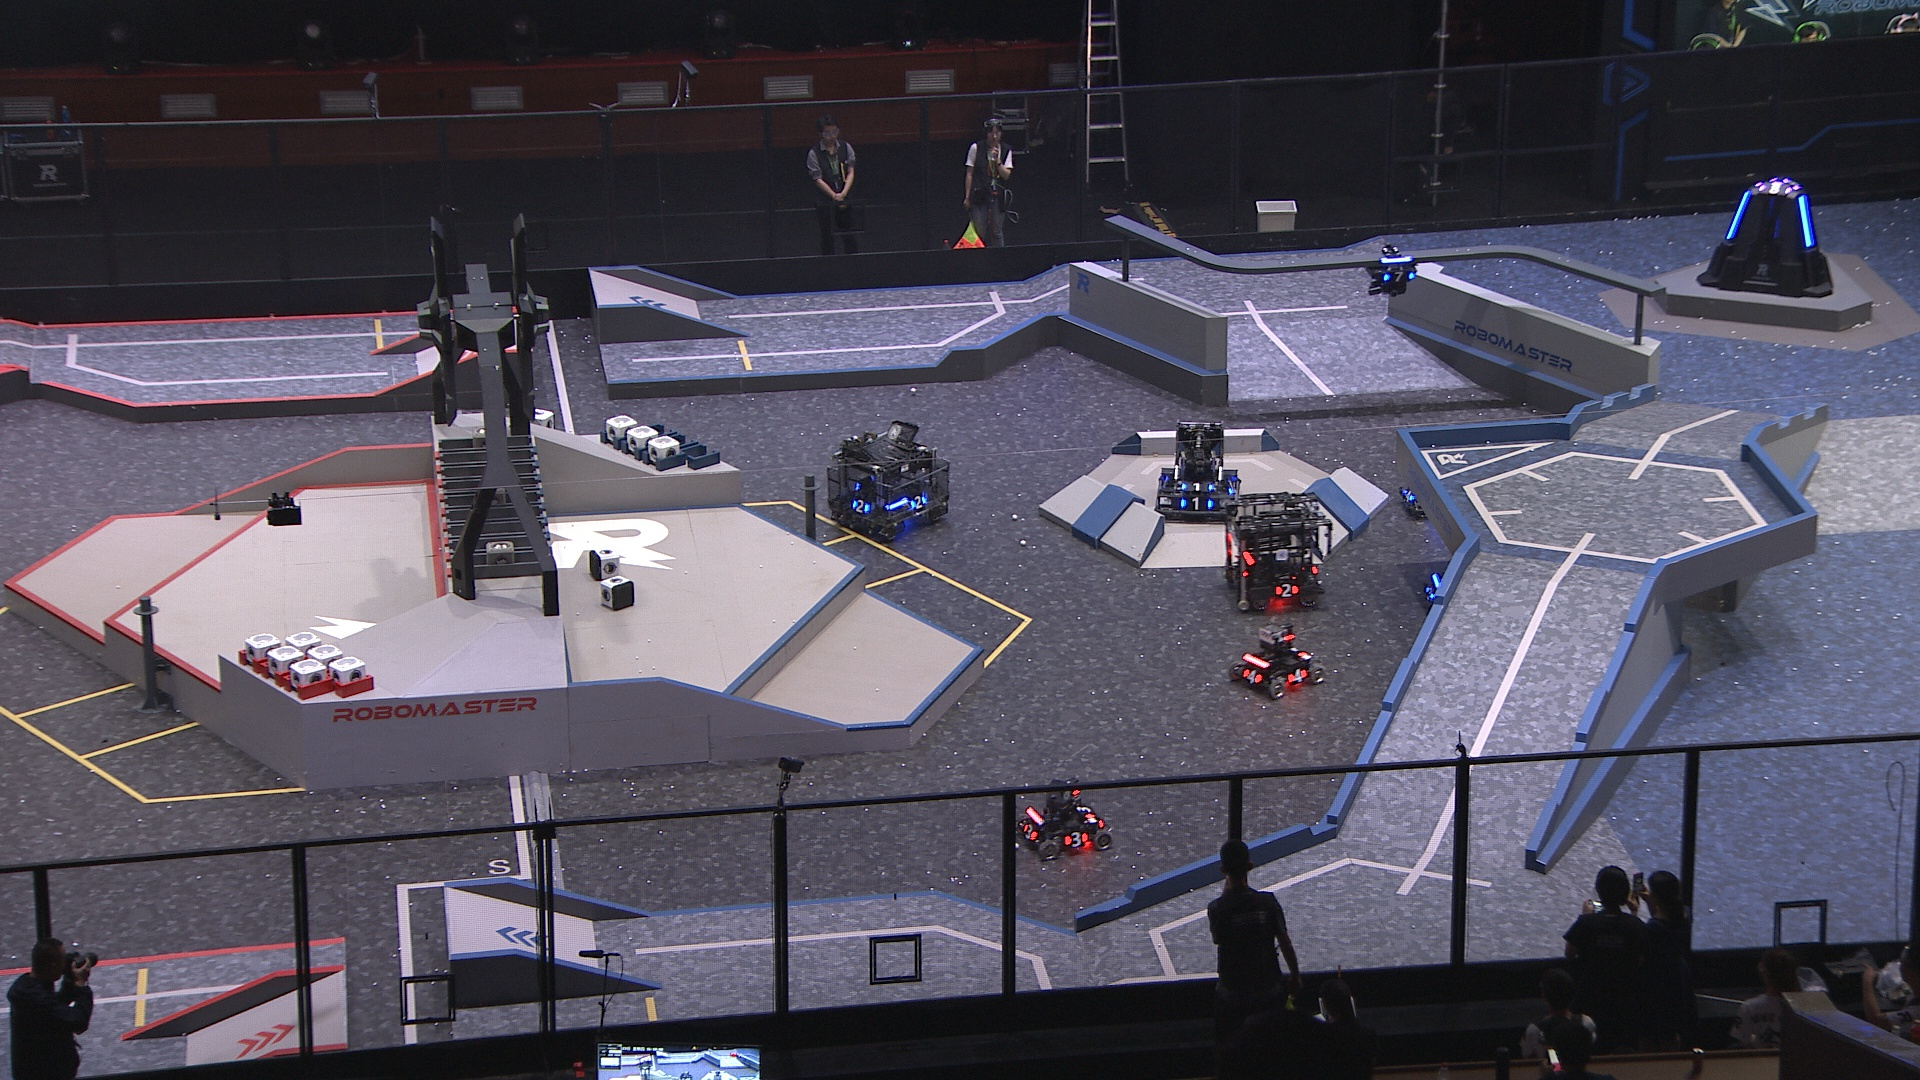armor: (1724, 193, 1747, 240), (1797, 196, 1818, 247), (1179, 480, 1218, 495), (1063, 831, 1091, 851), (1176, 498, 1215, 512), (1273, 582, 1299, 600), (1379, 272, 1415, 284), (1019, 823, 1040, 843), (851, 496, 873, 514), (1284, 669, 1309, 684), (1240, 669, 1265, 684), (1072, 803, 1096, 818), (1222, 479, 1238, 498), (907, 495, 928, 509), (1290, 646, 1309, 659), (1424, 584, 1437, 603), (1400, 489, 1418, 502), (1158, 476, 1172, 491)
base: (1695, 174, 1836, 299)
car: (827, 419, 951, 543), (1222, 488, 1333, 611), (1150, 419, 1244, 520), (1015, 779, 1112, 865), (1228, 622, 1327, 700), (1414, 550, 1505, 622), (1394, 458, 1476, 520)
ignore: (1756, 181, 1793, 196)
watcher: (1365, 243, 1420, 295)
